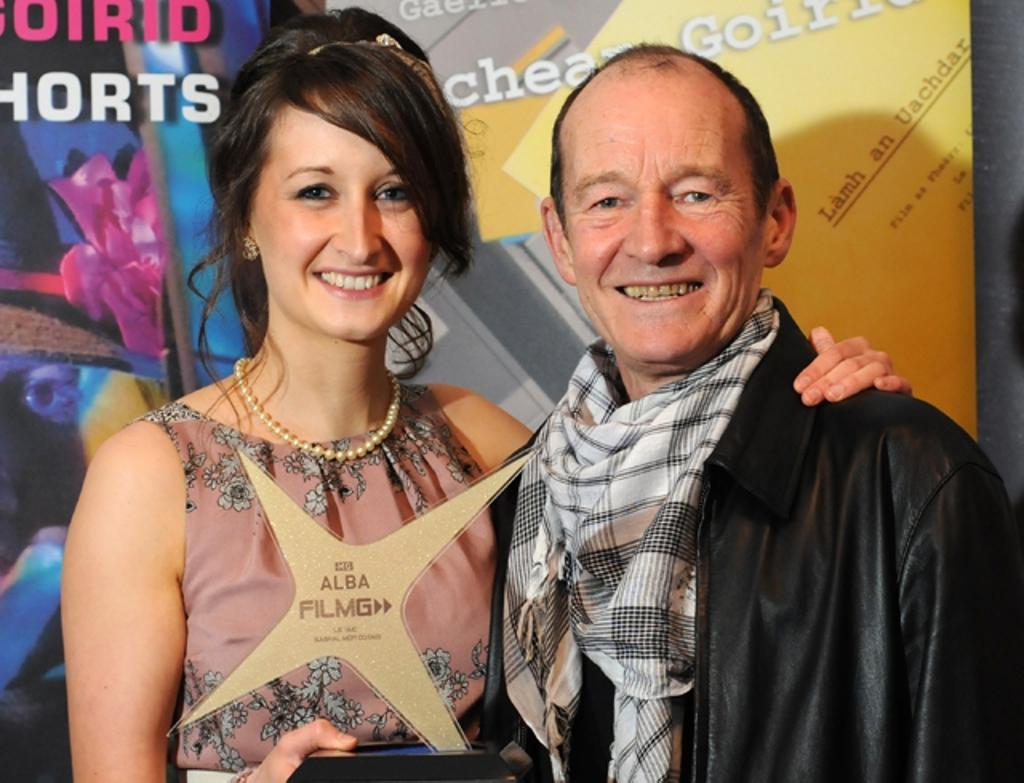face: (556, 60, 760, 364), (250, 80, 434, 344)
